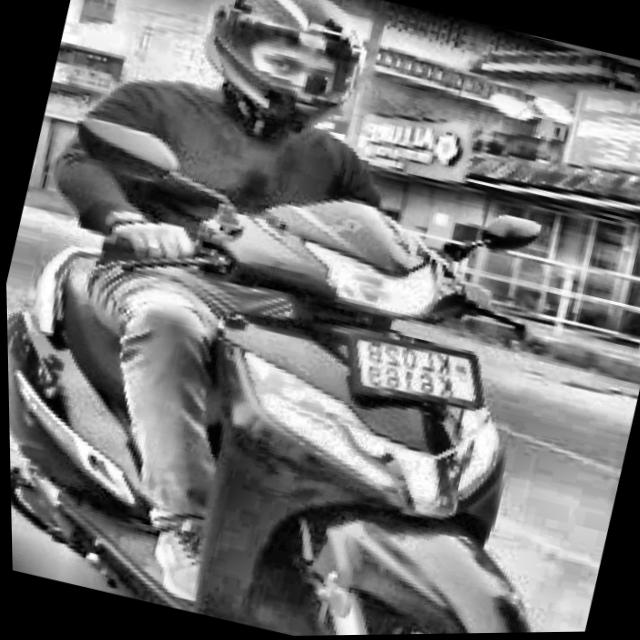motorcycle: (2, 87, 640, 640)
